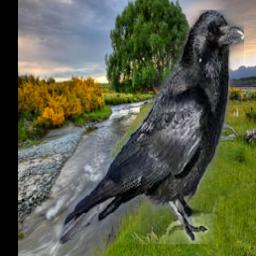Crow: (60, 10, 245, 244)
